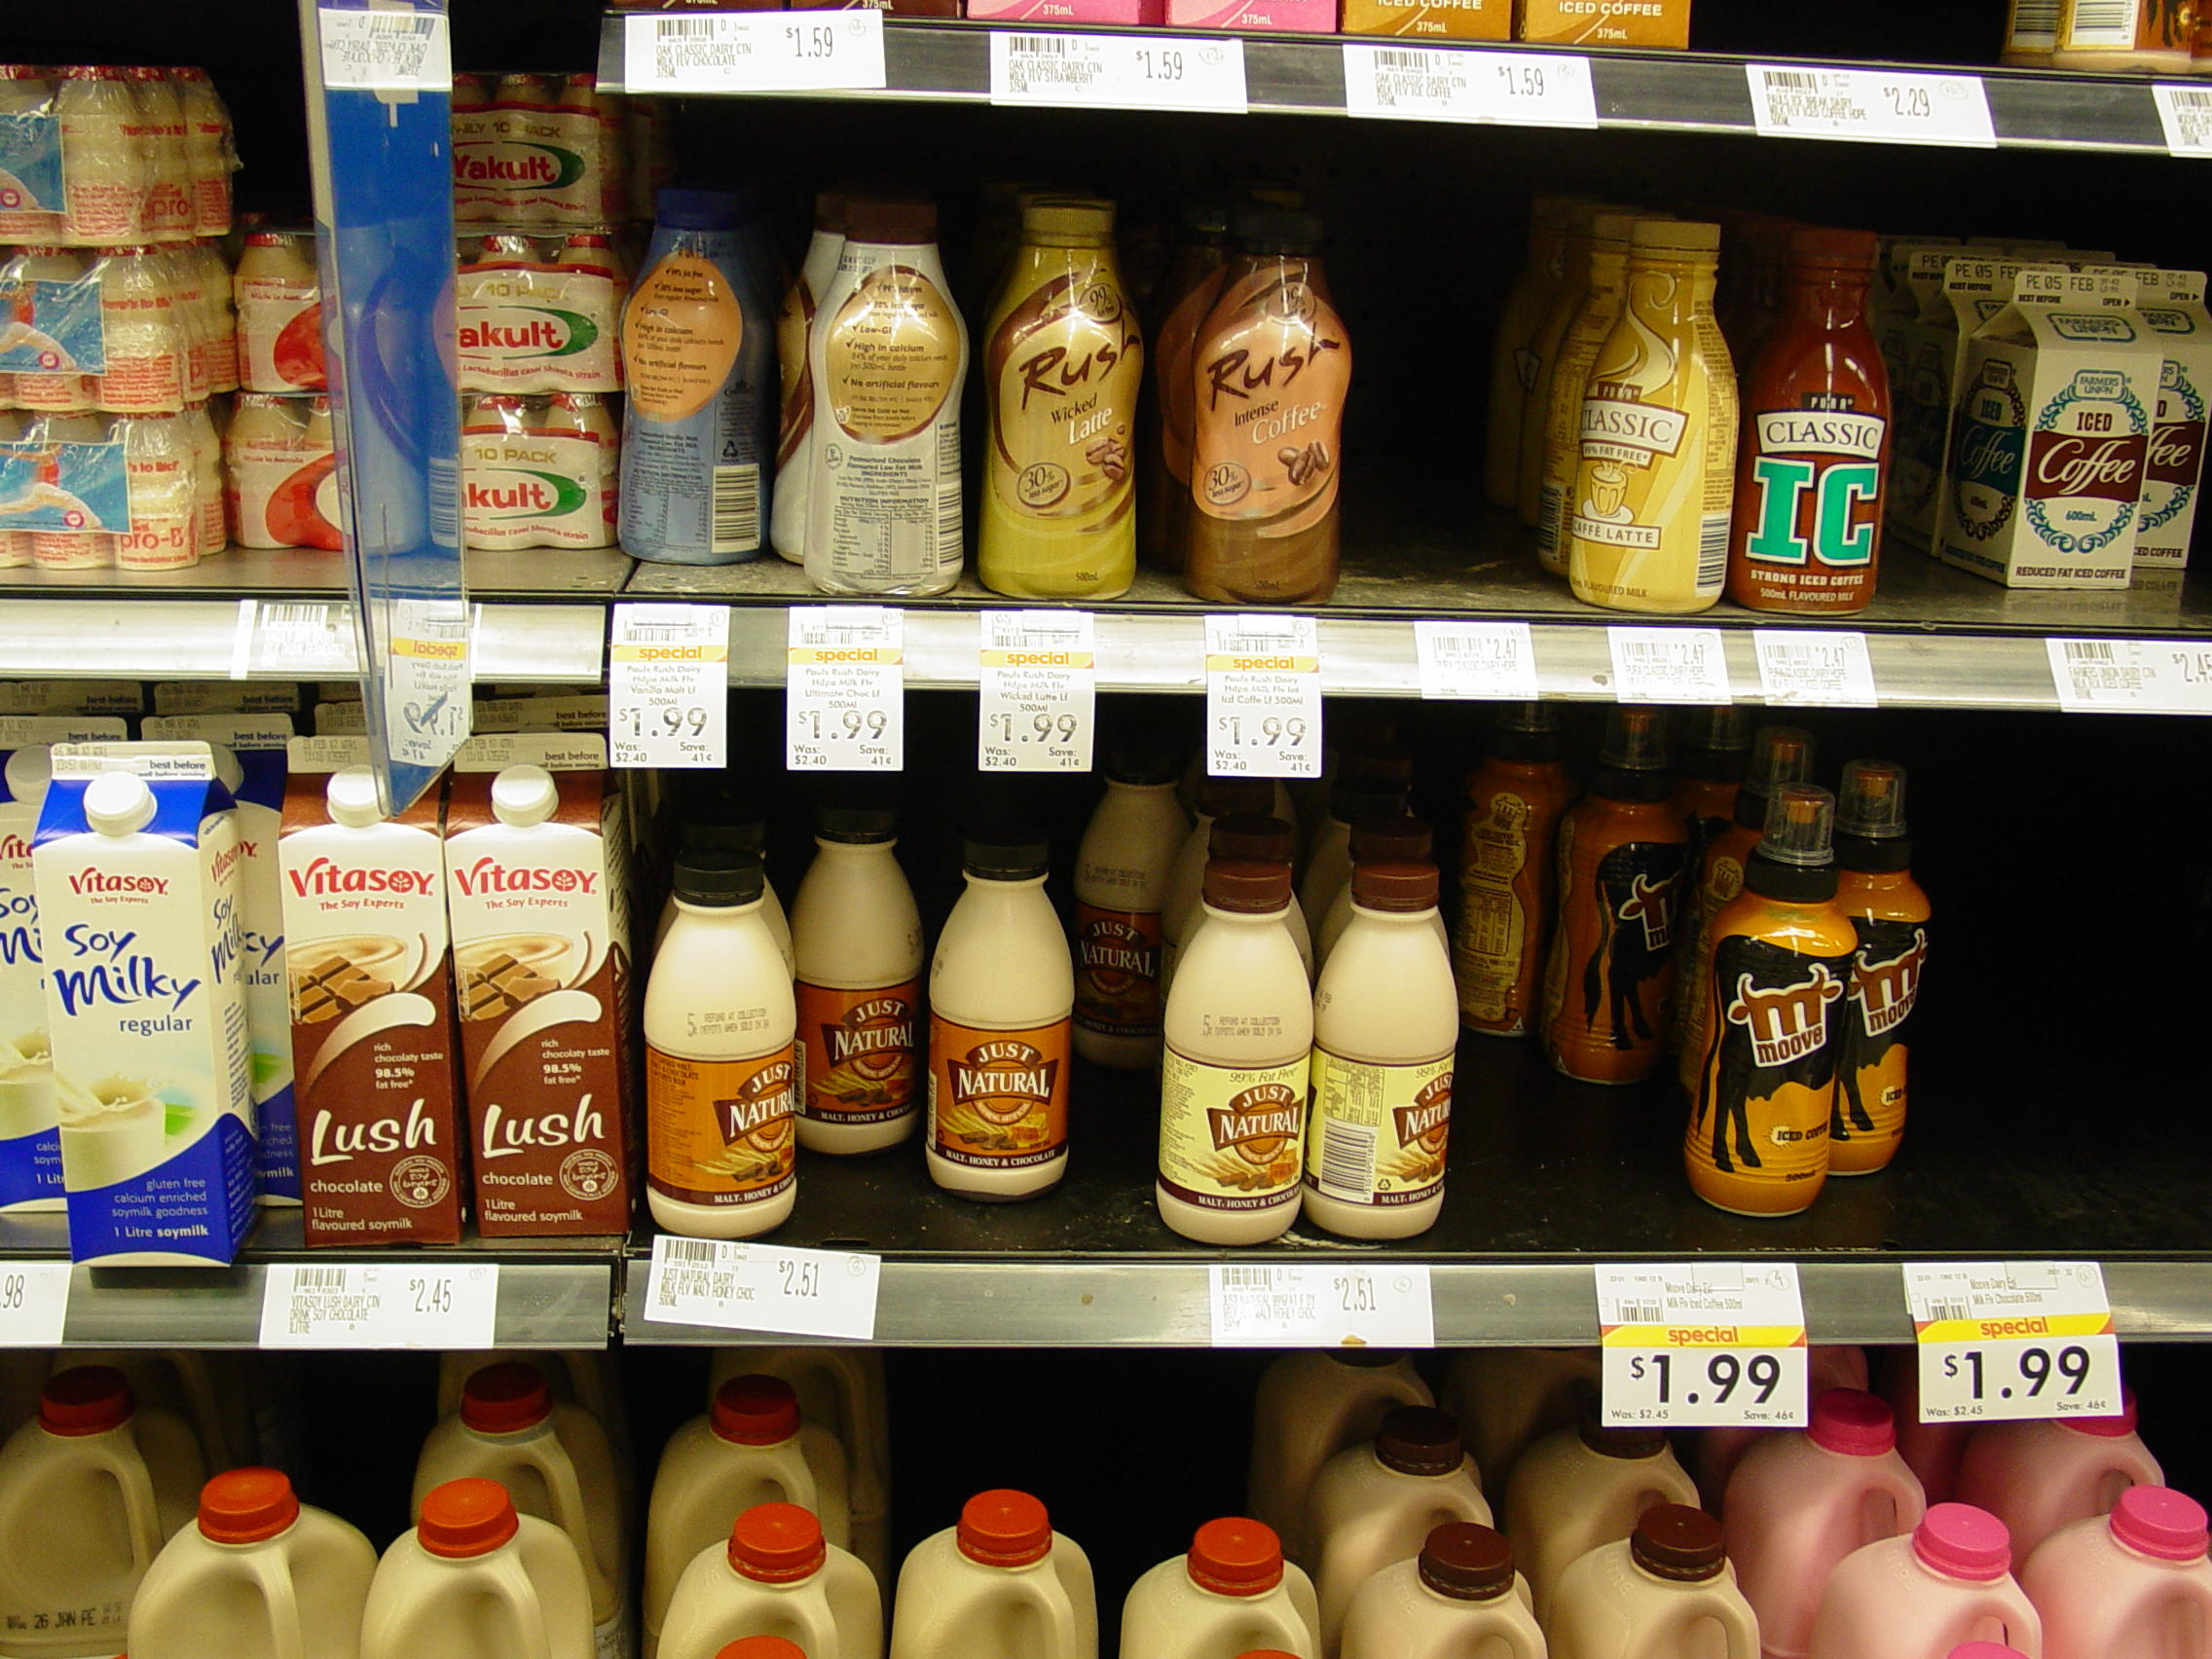Misplacement: (671, 734, 1061, 1251), (1467, 756, 1726, 1246)
Out-of-stock: (1925, 748, 2163, 1255), (1346, 188, 1531, 596)
